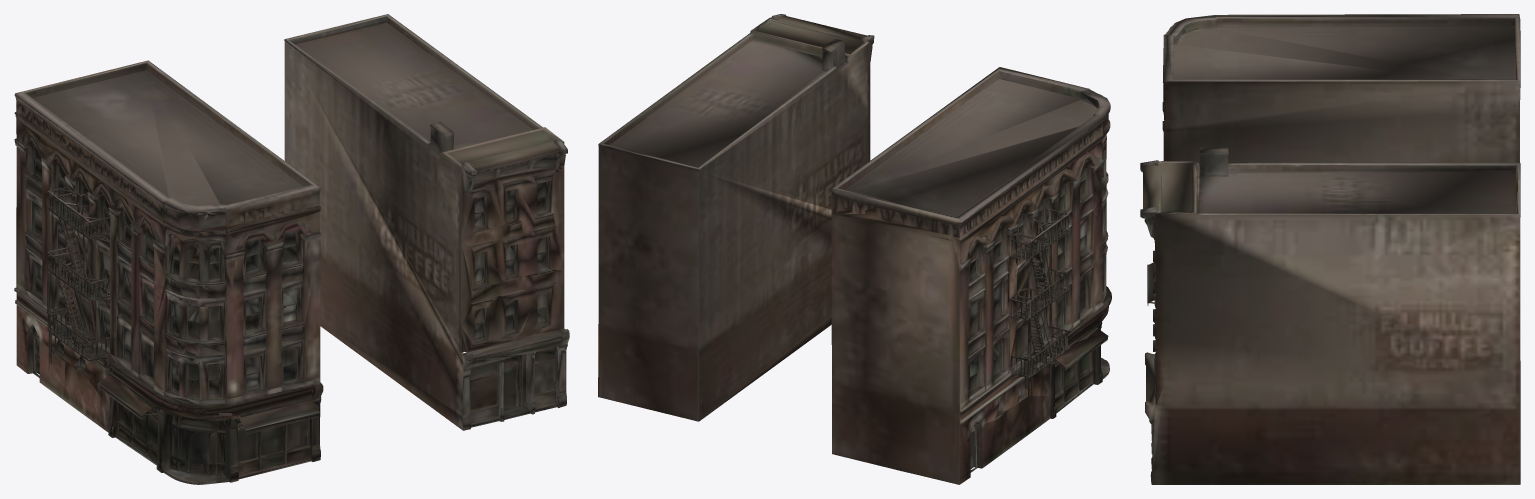
The model's file is corner_round.glb.
3 views of the same model, side by side, from view 1: azimuth 30°, elevation 25°; view 2: azimuth 150°, elevation 25°; view 3: azimuth 270°, elevation 25° (orthographic). The views are drawn at different scales.
Visible parts, largest first — view 1: mesh_node; view 2: mesh_node; view 3: mesh_node.
Part boxes in pixels (<box>): mesh_node: <box>14,14,569,484</box>; mesh_node: <box>598,14,1111,484</box>; mesh_node: <box>1140,14,1520,484</box>.
Size of the model in its own units: 25.09 by 17 by 20.33.
Materials: 1 (1 with a texture image).
